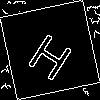H: (25, 25, 80, 82)
